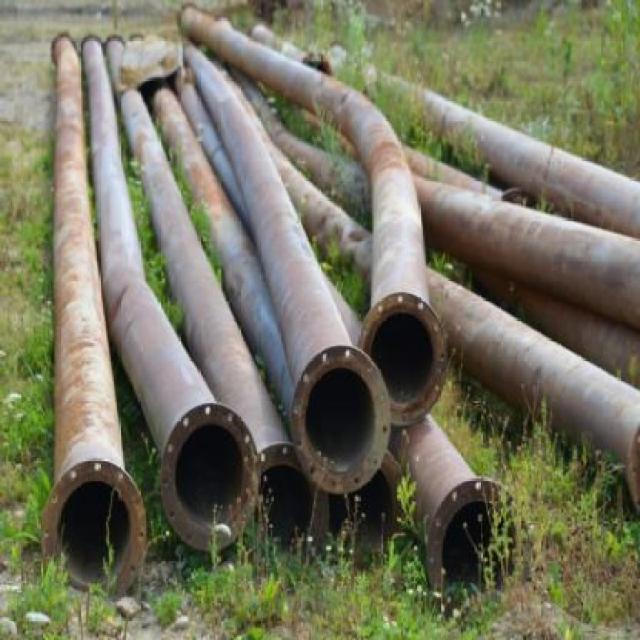corrosion: (47, 5, 640, 609)
